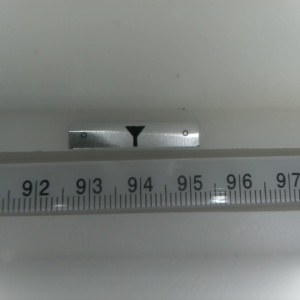2: (38, 180, 49, 195)
3: (91, 178, 101, 194)
4: (143, 176, 153, 192)
5: (192, 175, 202, 191)
6: (242, 173, 252, 189)
7: (291, 173, 300, 188)
9: (21, 180, 32, 196), (127, 176, 137, 193), (177, 175, 187, 191), (75, 178, 85, 194), (275, 173, 285, 188), (226, 174, 235, 189)
finger: (123, 126, 146, 148)
